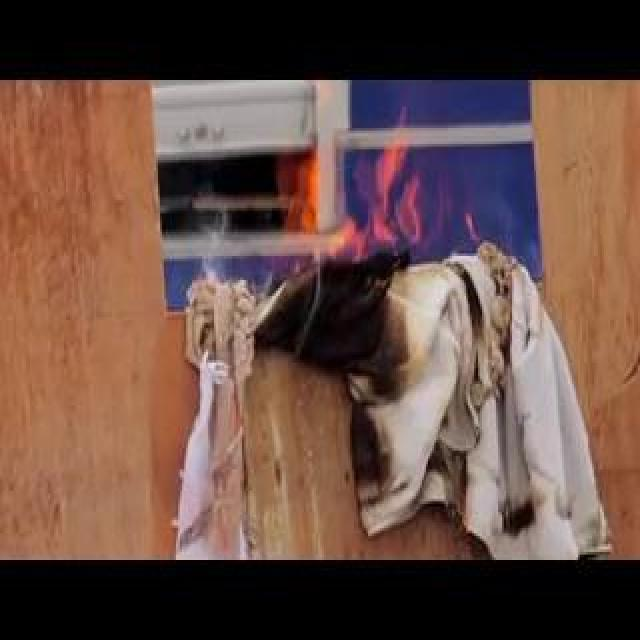Fire: (232, 184, 371, 202)
